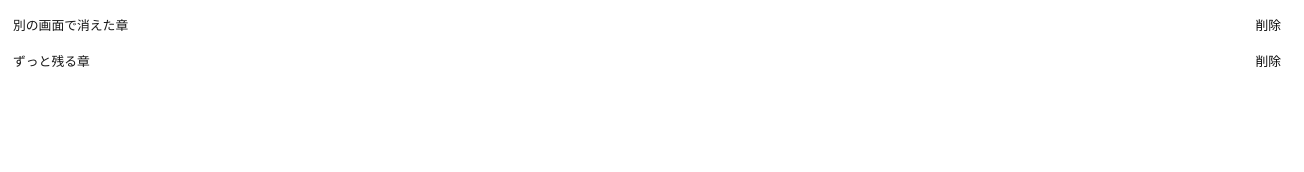
Scenario: ChapterList の削除 › 既に消えている章(404)は、エラーにせず、一覧から消える
Click the button with aria-label "「別の画面で消えた章」を削除" at {"x": 1268, "y": 26}, box 1244,12 -> 1292,40
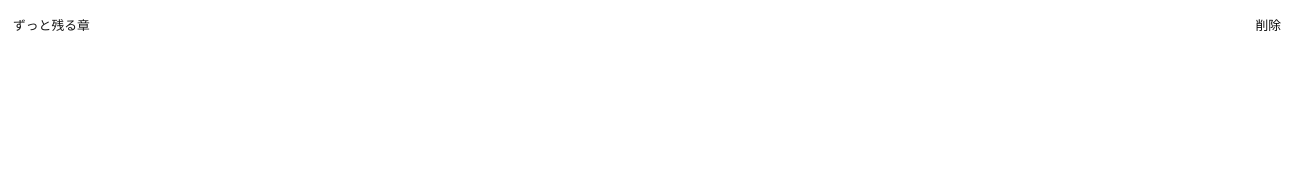
Expected: the button "ずっと残る章" is shown, 12,15 -> 91,37
Expected: the button "別の画面で消えた章" is gone
